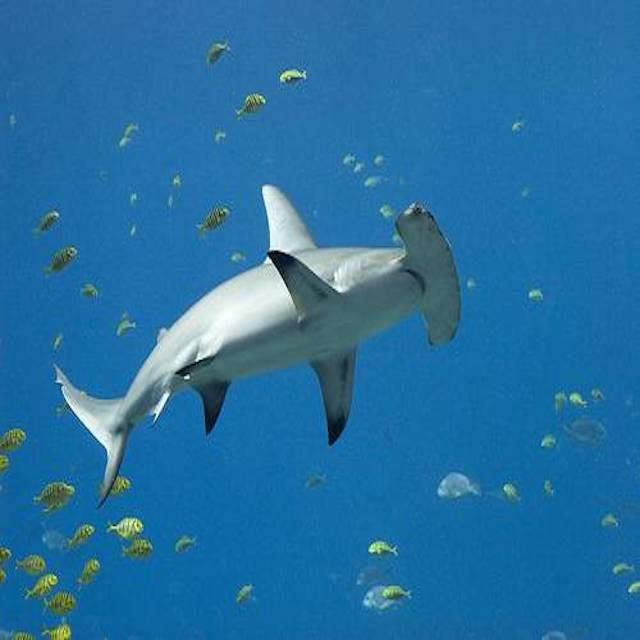hammerhead: (44, 184, 461, 506)
